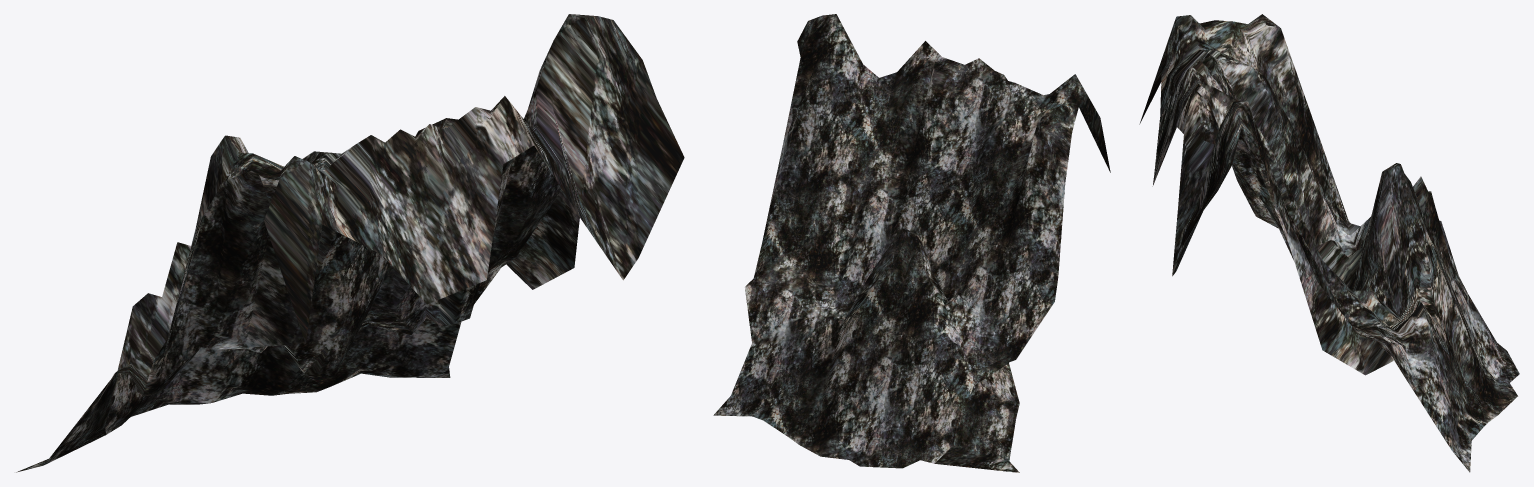
Rendered from OVERHILL_A_01_MOUN1_OBJECT157.fbx.
3 views of the same model, side by side, from view 1: azimuth 30°, elevation 25°; view 2: azimuth 150°, elevation 25°; view 3: azimuth 270°, elevation 25° (orthographic). The views are drawn at different scales.
Parts seen in each view (by area): view 1: OVERHILL_A_01_MOUN1_OBJECT157; view 2: OVERHILL_A_01_MOUN1_OBJECT157; view 3: OVERHILL_A_01_MOUN1_OBJECT157.
Part boxes in pixels (x1,y1,x2,y2): OVERHILL_A_01_MOUN1_OBJECT157: (16,14,684,472); OVERHILL_A_01_MOUN1_OBJECT157: (713,14,1110,472); OVERHILL_A_01_MOUN1_OBJECT157: (1139,14,1519,472).
Bounding box in the file's own units: 358541 × 335443 × 319479.
1 material, 1 textured.
